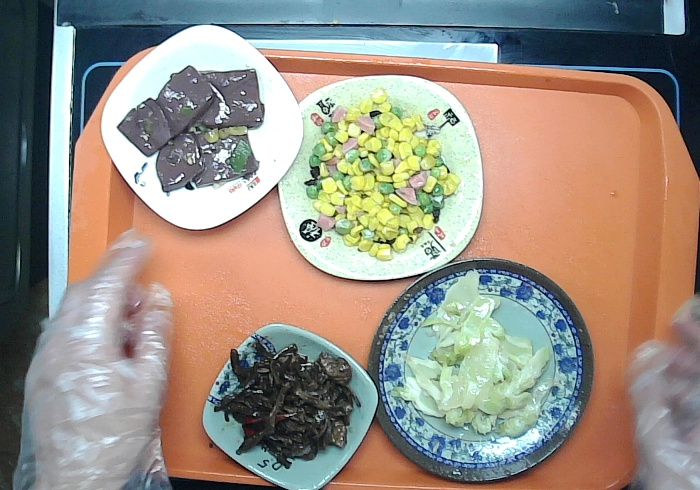NLDX-Bai_Se_Xiao_Fang_Die: (96, 19, 307, 238)
NLDX-Fu_Zi_Fang_Die: (271, 69, 486, 287)
NLDX-Qing_Hua_Xiao_Fang_Die: (194, 321, 385, 488)
NLDX-Qing_Hua_Yuan_Die: (364, 250, 600, 490)
